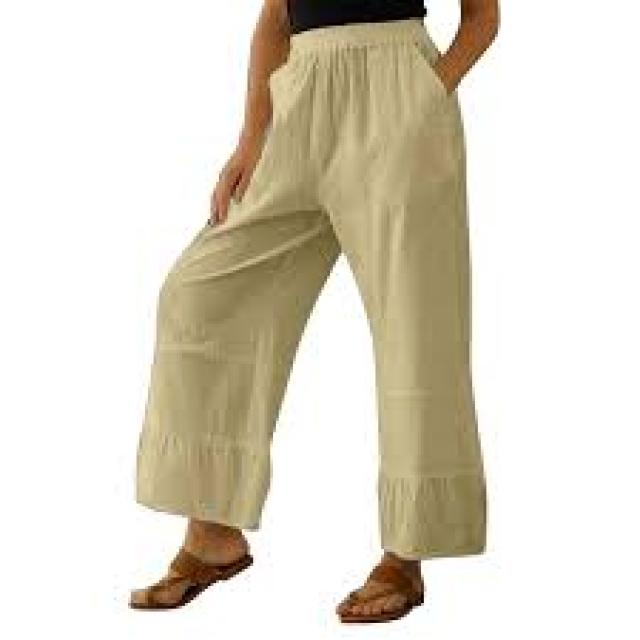long-pants: (135, 19, 487, 561)
